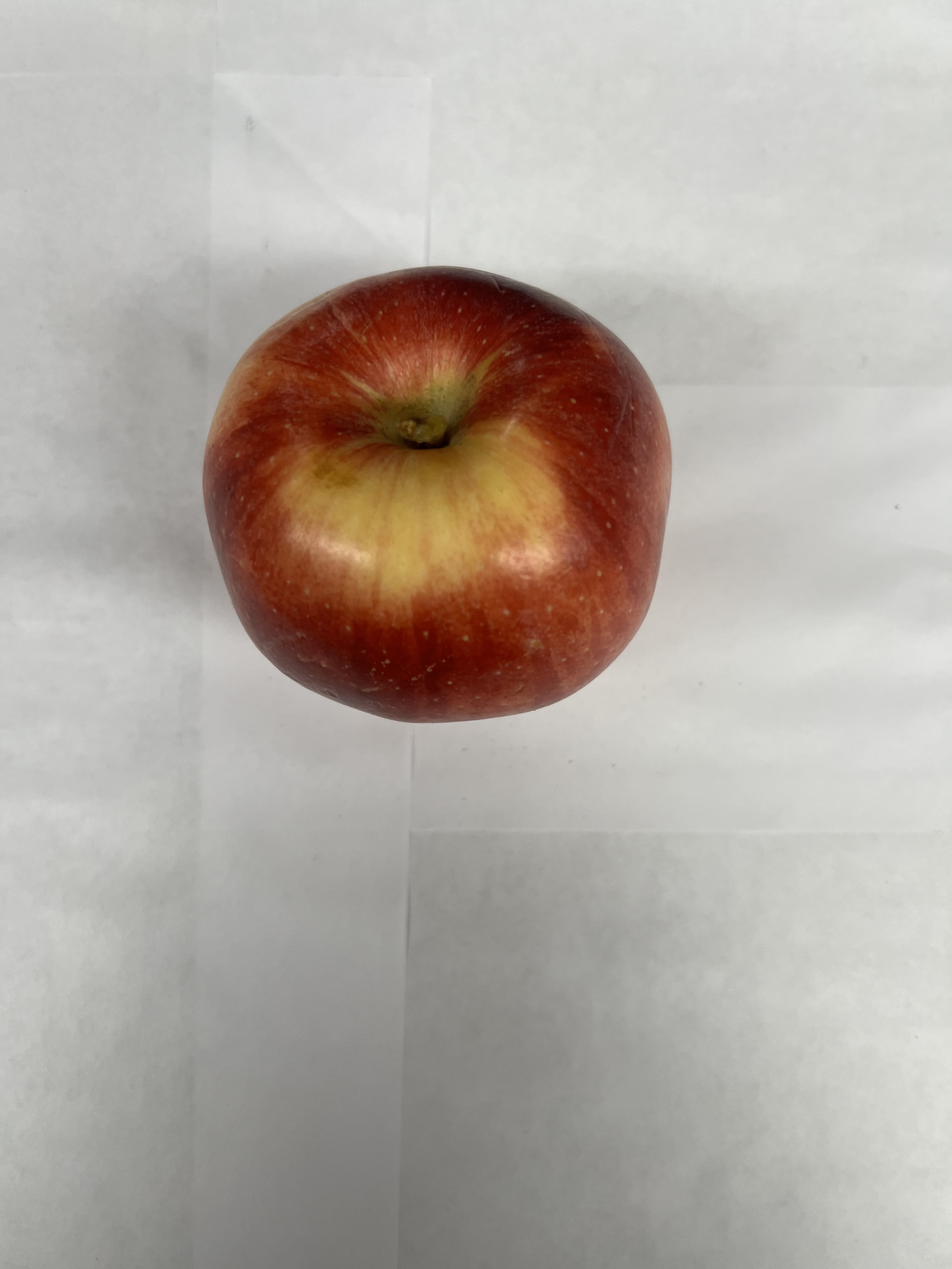produce: (196, 257, 688, 727)
